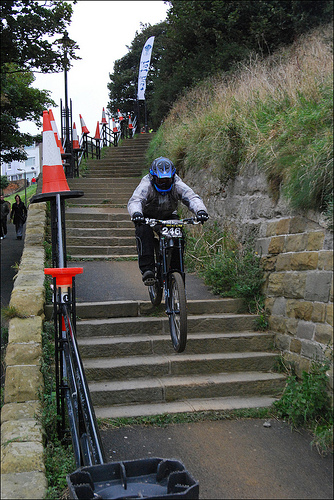helmet: (142, 159, 182, 189)
